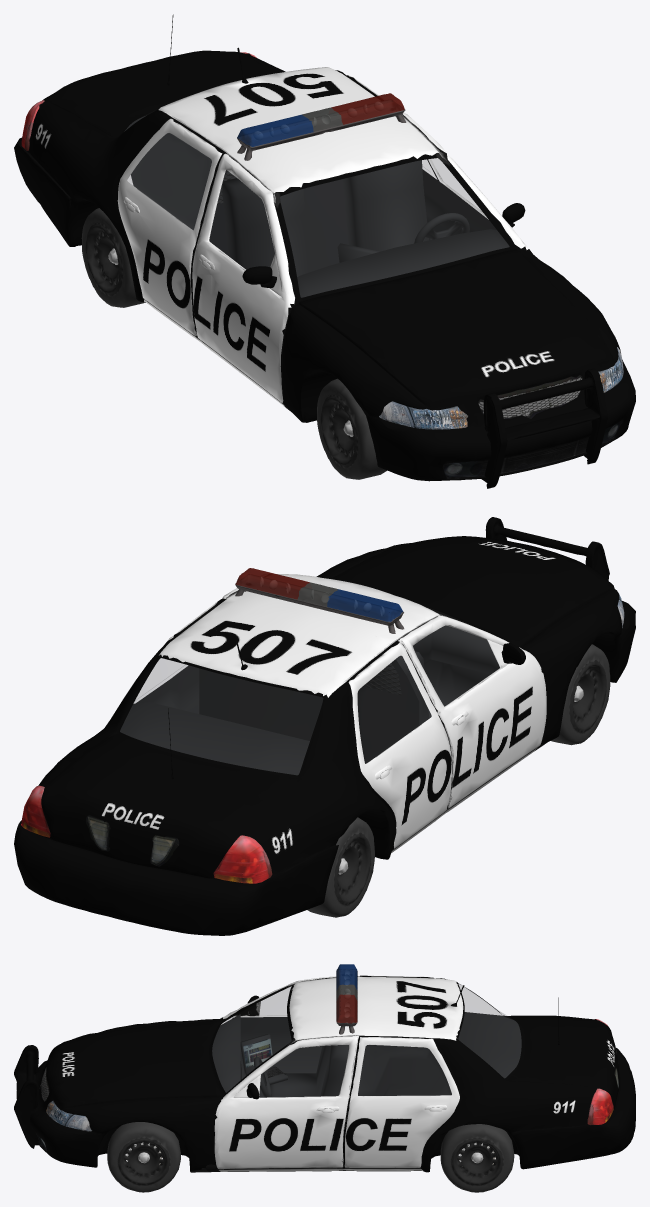
Rendered from Patrol.glb.
3 views of the same model, one above another, from view 1: azimuth 30°, elevation 25°; view 2: azimuth 150°, elevation 25°; view 3: azimuth 270°, elevation 25° (orthographic). The views are drawn at different scales.
Visible parts, largest first — view 1: Keep_Body, Keep_Glass, Keep_interior, Wheel_FR_Tire, Keep_LightBar, Wheel_RR_Tire; view 2: Keep_Body, Keep_Glass, Keep_interior, Keep_LightBar, Wheel_RR_Tire, Wheel_FR_Tire; view 3: Keep_Body, Keep_Glass, Keep_interior, Wheel_FL_Tire, Wheel_RL_Tire, Keep_LightBar.
Part boxes in pixels (bbox=[...]): Keep_Body: bbox=[14, 14, 635, 488]; Keep_Glass: bbox=[125, 111, 508, 297]; Keep_interior: bbox=[124, 115, 509, 297]; Wheel_FR_Tire: bbox=[317, 378, 386, 479]; Keep_LightBar: bbox=[237, 93, 406, 160]; Wheel_RR_Tire: bbox=[81, 208, 145, 307]; Keep_Body: bbox=[14, 517, 635, 935]; Keep_Glass: bbox=[120, 606, 499, 774]; Keep_interior: bbox=[120, 614, 499, 775]; Keep_LightBar: bbox=[235, 568, 404, 633]; Wheel_RR_Tire: bbox=[307, 817, 374, 917]; Wheel_FR_Tire: bbox=[551, 644, 610, 745]; Keep_Body: bbox=[14, 975, 635, 1172]; Keep_Glass: bbox=[212, 984, 521, 1097]; Keep_interior: bbox=[212, 1012, 521, 1097]; Wheel_FL_Tire: bbox=[107, 1122, 180, 1192]; Wheel_RL_Tire: bbox=[440, 1124, 514, 1192]; Keep_LightBar: bbox=[336, 964, 357, 1034].
Size of the model in its own units: 2.47 by 1.98 by 6.7.
7 materials, 5 textured.
